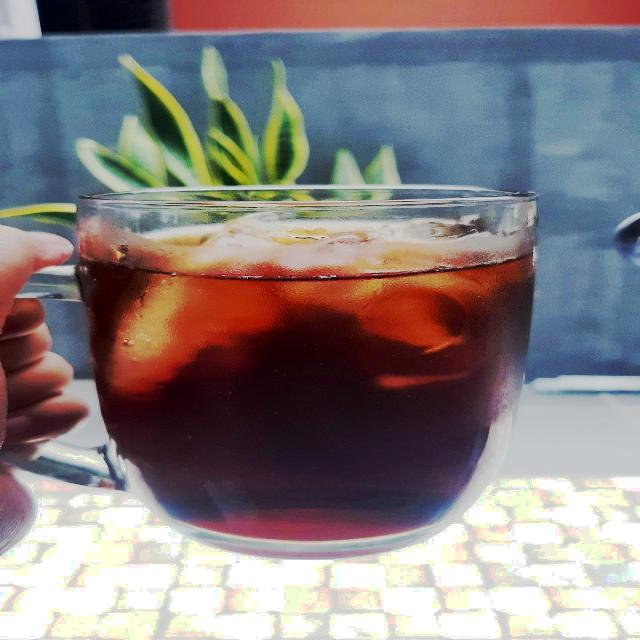drink: (80, 188, 535, 543)
